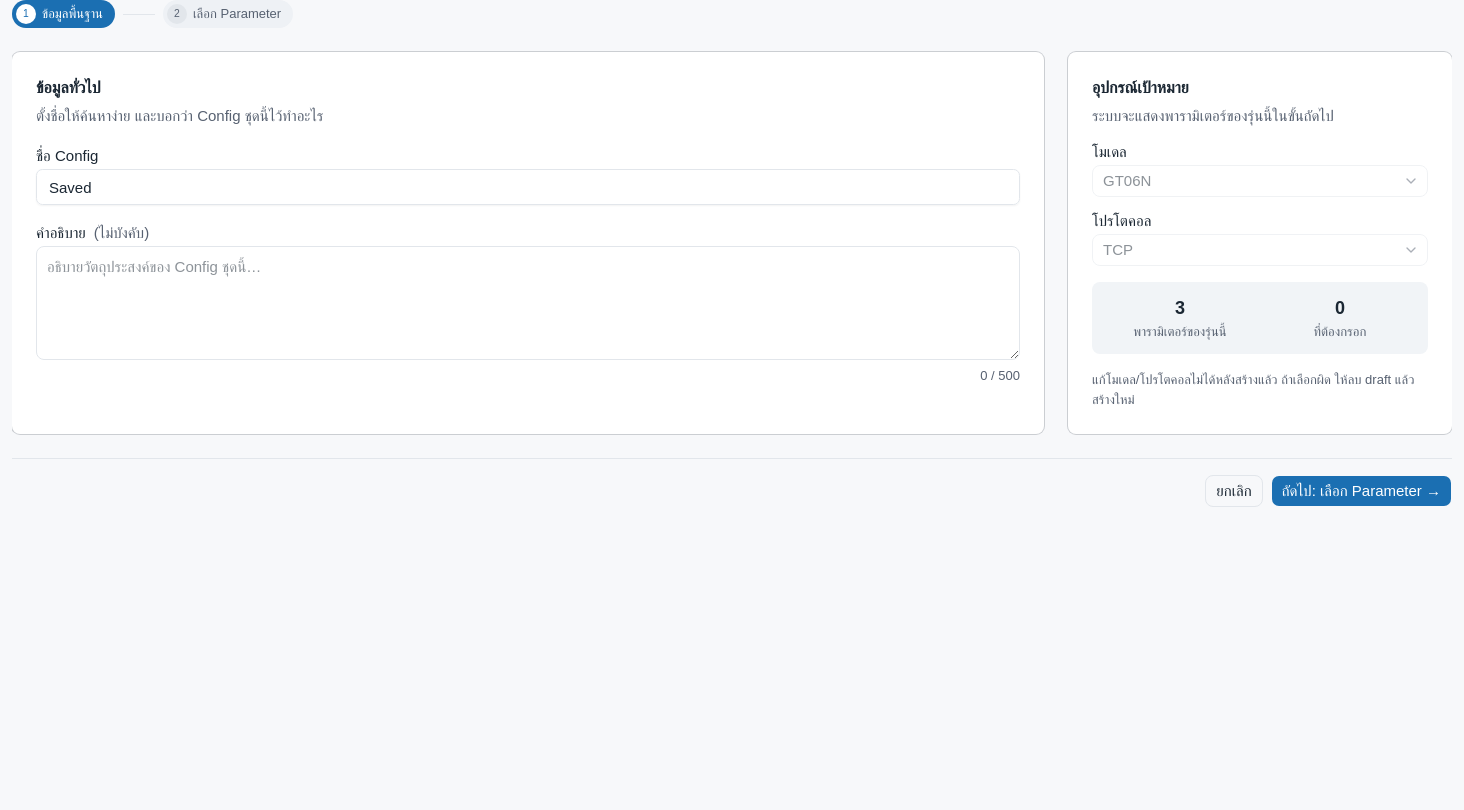
Test: ConfigWizard editor — validation, diff, JSON mode, reset › จัดกลุ่ม Template ตามหมวด และ field ที่ต้อง Restart มีป้ายกำกับ
This screenshot has width=1464, height=810.
Click the button "ถัดไป: เลือก Parameter →" at (1361, 491), box [1271, 475, 1452, 507]
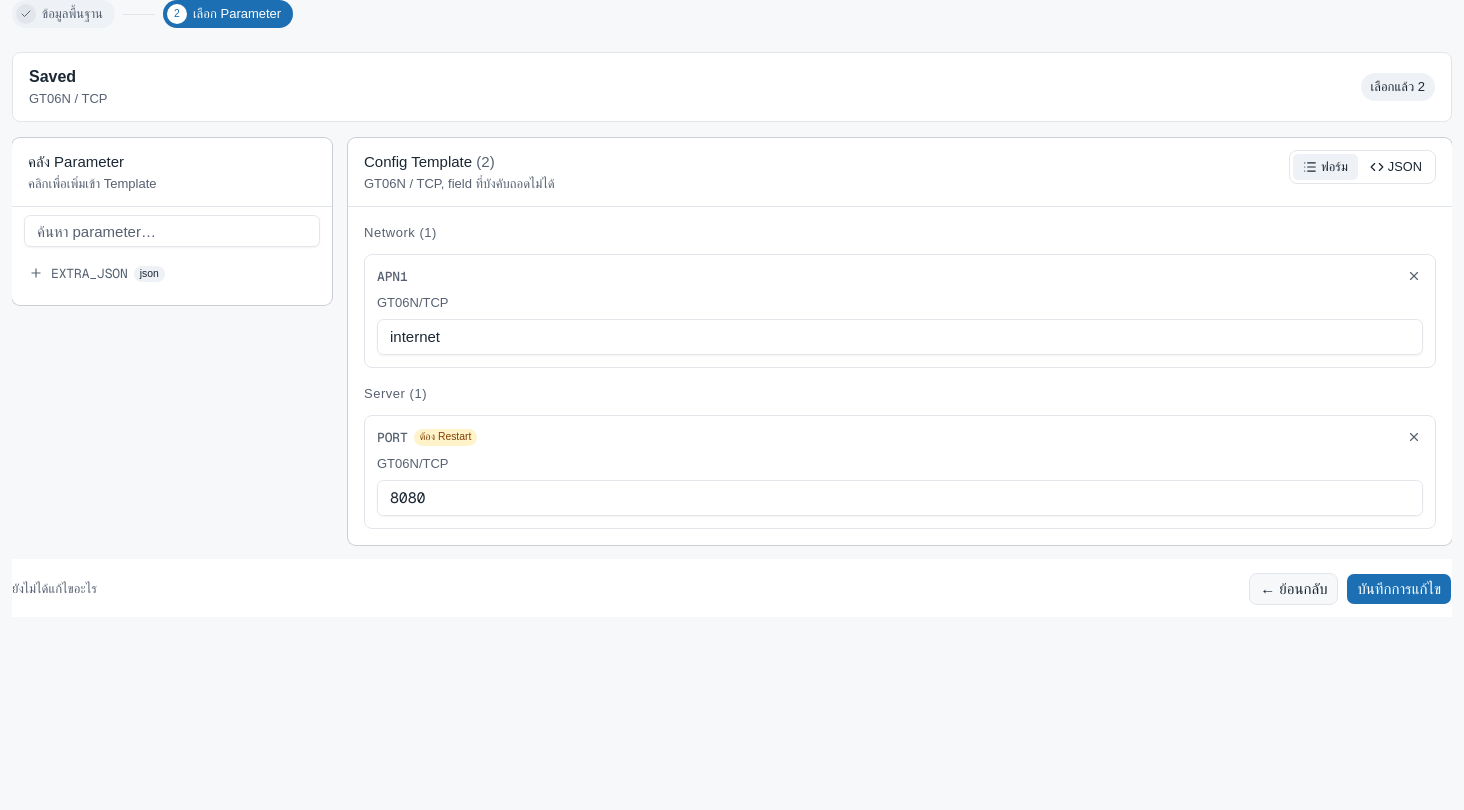
Result: the element "Network" is shown at [364, 223, 1436, 368]
Result: the text "ต้อง Restart" is shown at [414, 429, 477, 446]
